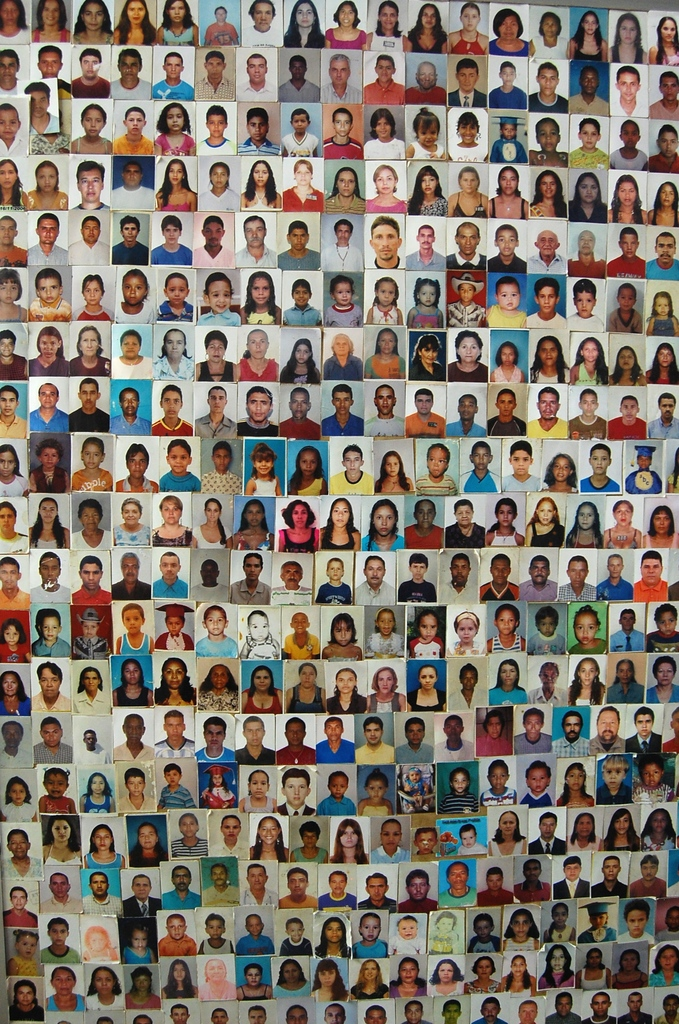Person: (0, 0, 678, 1024)
